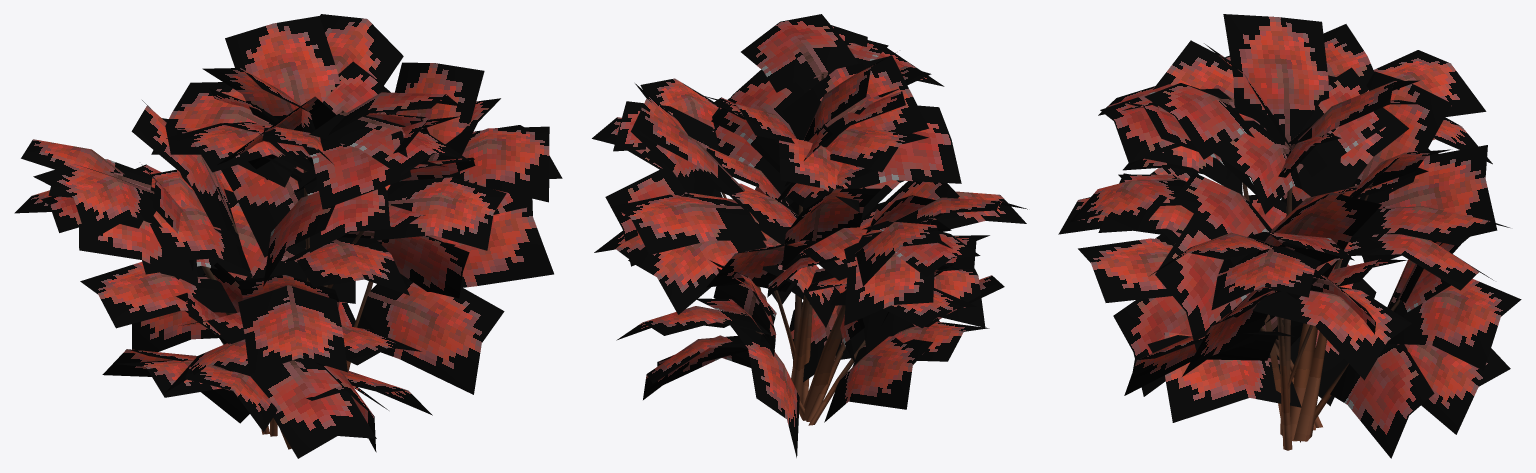
File: plants_area04_shrub02.gltf
3 renders of one model, left to right at view 1: azimuth 30°, elevation 25°; view 2: azimuth 150°, elevation 25°; view 3: azimuth 270°, elevation 25°, orthographic. The views are drawn at different scales.
Visible parts, largest first — view 1: plants_area04_shrub02; view 2: plants_area04_shrub02; view 3: plants_area04_shrub02.
Boxes of the visible parts, left/top/right/bottom form: plants_area04_shrub02: left=14, top=14, right=562, bottom=458; plants_area04_shrub02: left=592, top=14, right=1027, bottom=457; plants_area04_shrub02: left=1058, top=14, right=1521, bottom=458.
Bounding box in the file's own units: 2.56 × 2.09 × 2.22.
2 materials, 2 textured.
